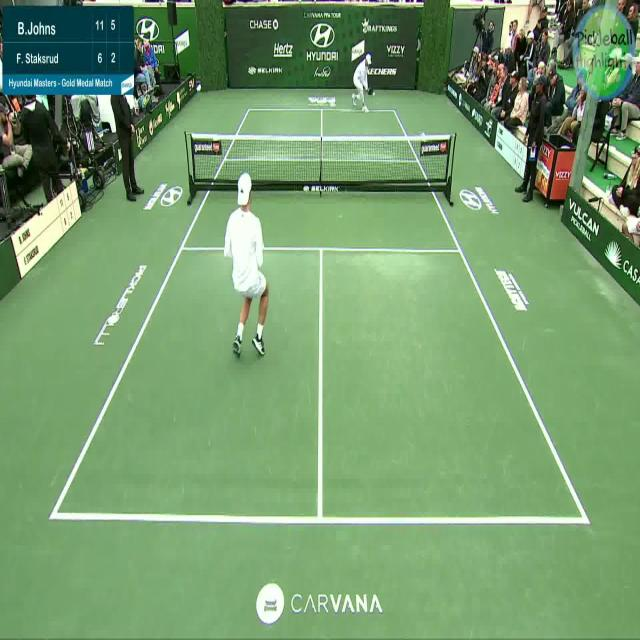ball: (373, 92, 375, 95)
